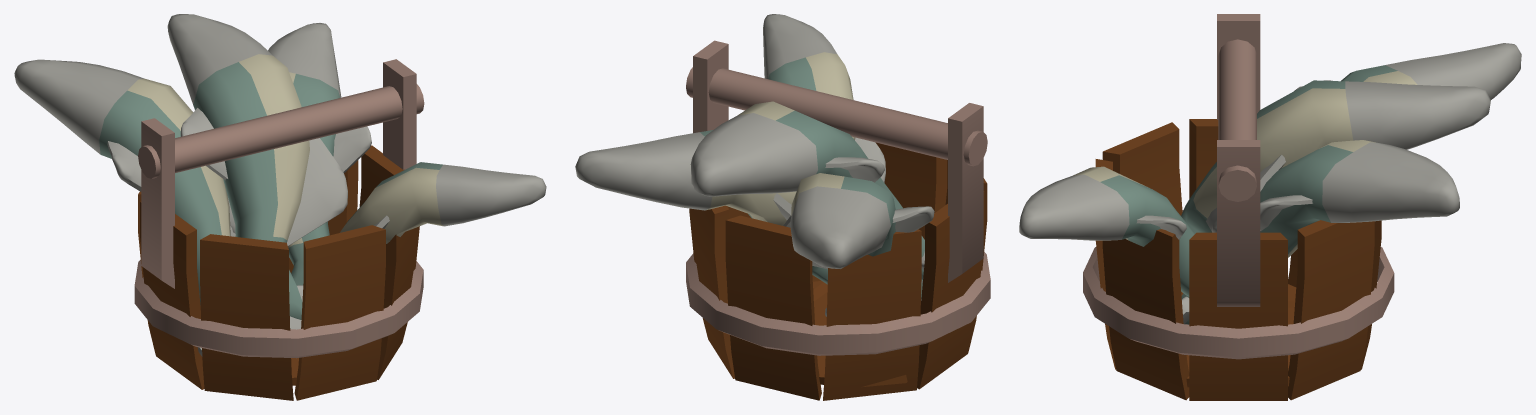
File: Prop_Bucket_Fishes.glb
3 renders of one model, left to right at view 1: azimuth 30°, elevation 25°; view 2: azimuth 150°, elevation 25°; view 3: azimuth 270°, elevation 25°, orthographic. The views are drawn at different scales.
Parts seen in each view (by area): view 1: Prop_Bucket_Fishes; view 2: Prop_Bucket_Fishes; view 3: Prop_Bucket_Fishes.
Part boxes in pixels (x1,y1,x2,y2): Prop_Bucket_Fishes: (14,14,546,400); Prop_Bucket_Fishes: (575,14,990,400); Prop_Bucket_Fishes: (1019,14,1521,400).
Bounding box in the file's own units: 0.8598 × 0.6807 × 1.15.
1 material, 1 textured.
